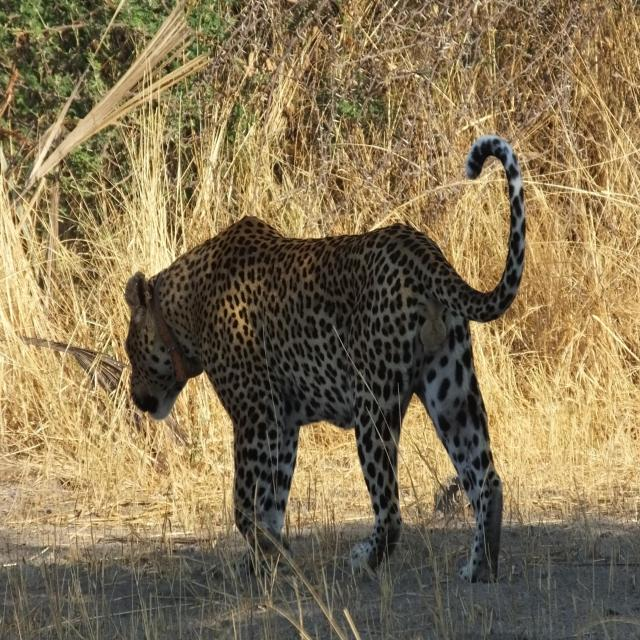Leopard: (122, 120, 533, 564)
